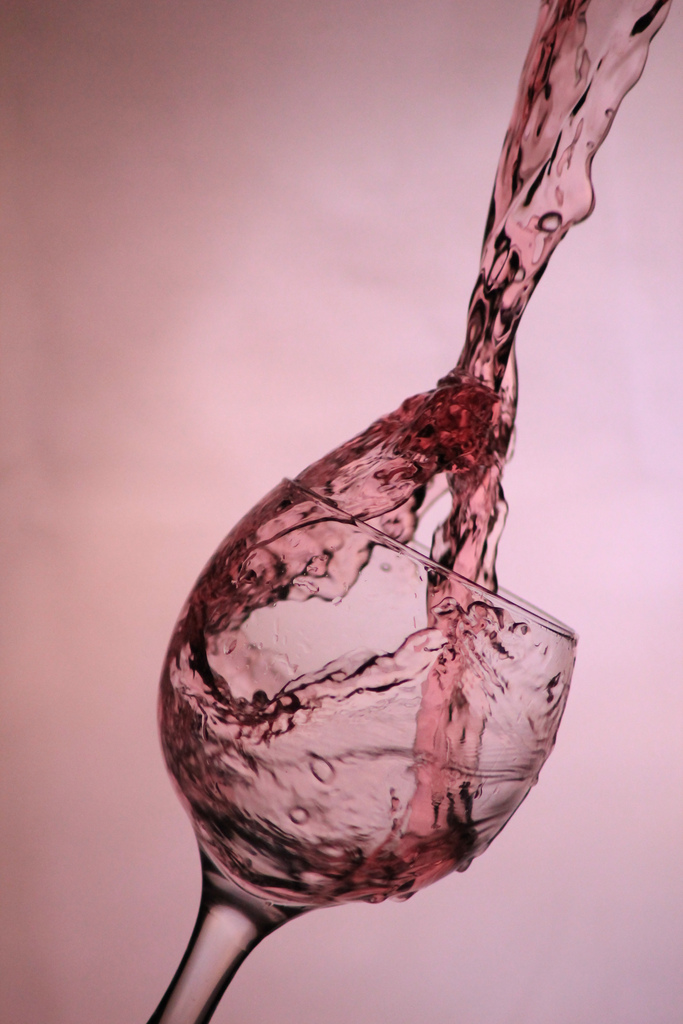glass of water: (99, 417, 565, 1024)
